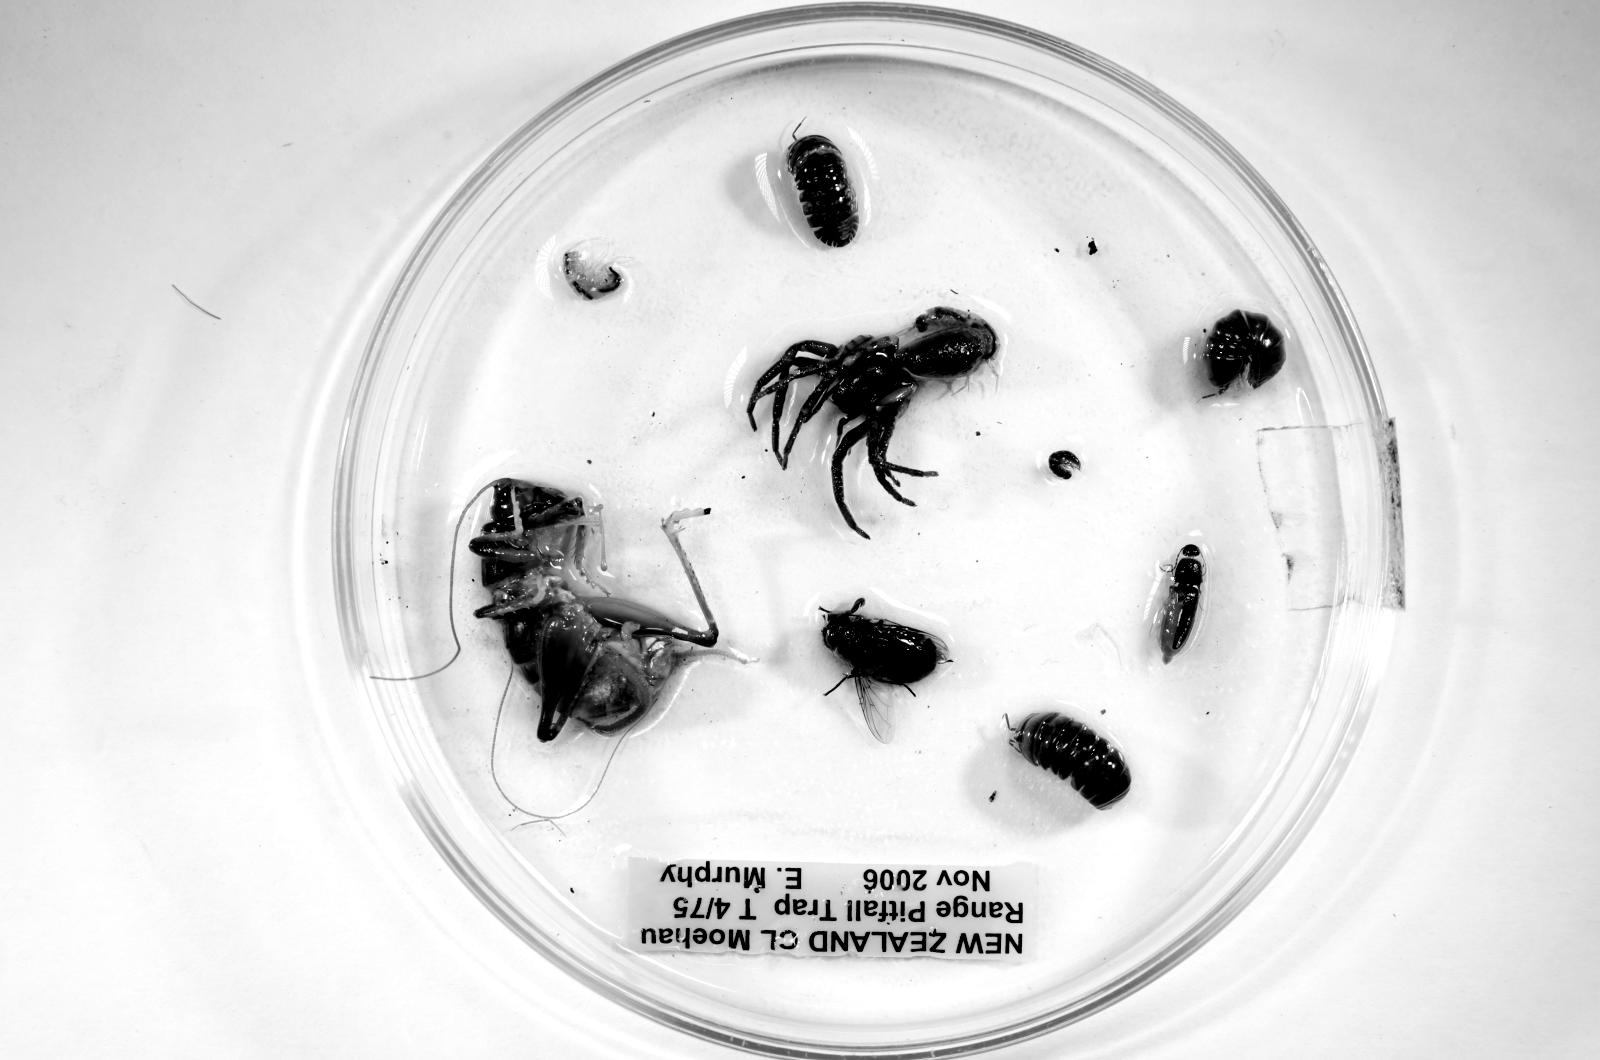amphipoda: (562, 238, 623, 299)
araneae: (749, 308, 999, 538)
coleoptera: (1159, 544, 1205, 664)
diptera: (821, 598, 952, 742)
isopoda: (1008, 711, 1131, 809), (787, 135, 858, 247), (1204, 310, 1285, 392), (1048, 450, 1081, 480)
orthoptera: (469, 479, 718, 741)
